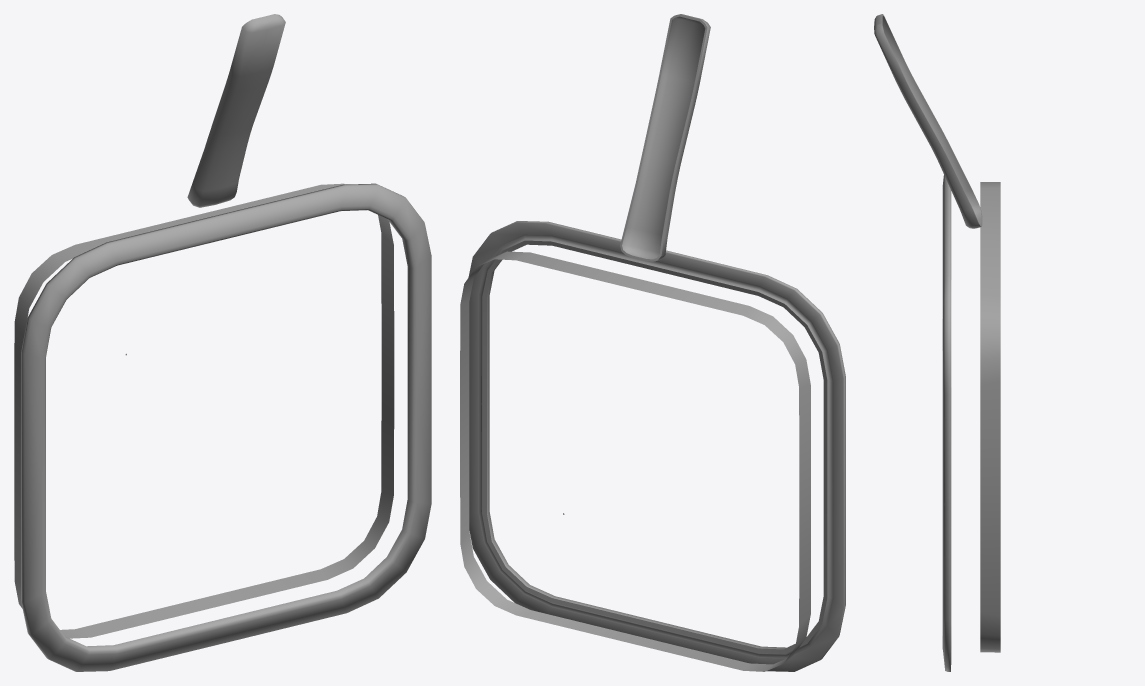
The model's file is MeshPot_30_0_GeomSubset_1.obj.
3 renders of one model, left to right at view 1: azimuth 30°, elevation 25°; view 2: azimuth 150°, elevation 25°; view 3: azimuth 270°, elevation 25°, orthographic. The views are drawn at different scales.
Visible parts, largest first — view 1: MeshPot_30_0_GeomSubset_1; view 2: MeshPot_30_0_GeomSubset_1; view 3: MeshPot_30_0_GeomSubset_1.
Boxes of the visible parts, x1,y1,x2,y2 form: MeshPot_30_0_GeomSubset_1: (14,14,431,671); MeshPot_30_0_GeomSubset_1: (460,14,845,671); MeshPot_30_0_GeomSubset_1: (874,14,1000,671).
Size of the model in its own units: 0.2824 by 0.4304 by 0.1692.
